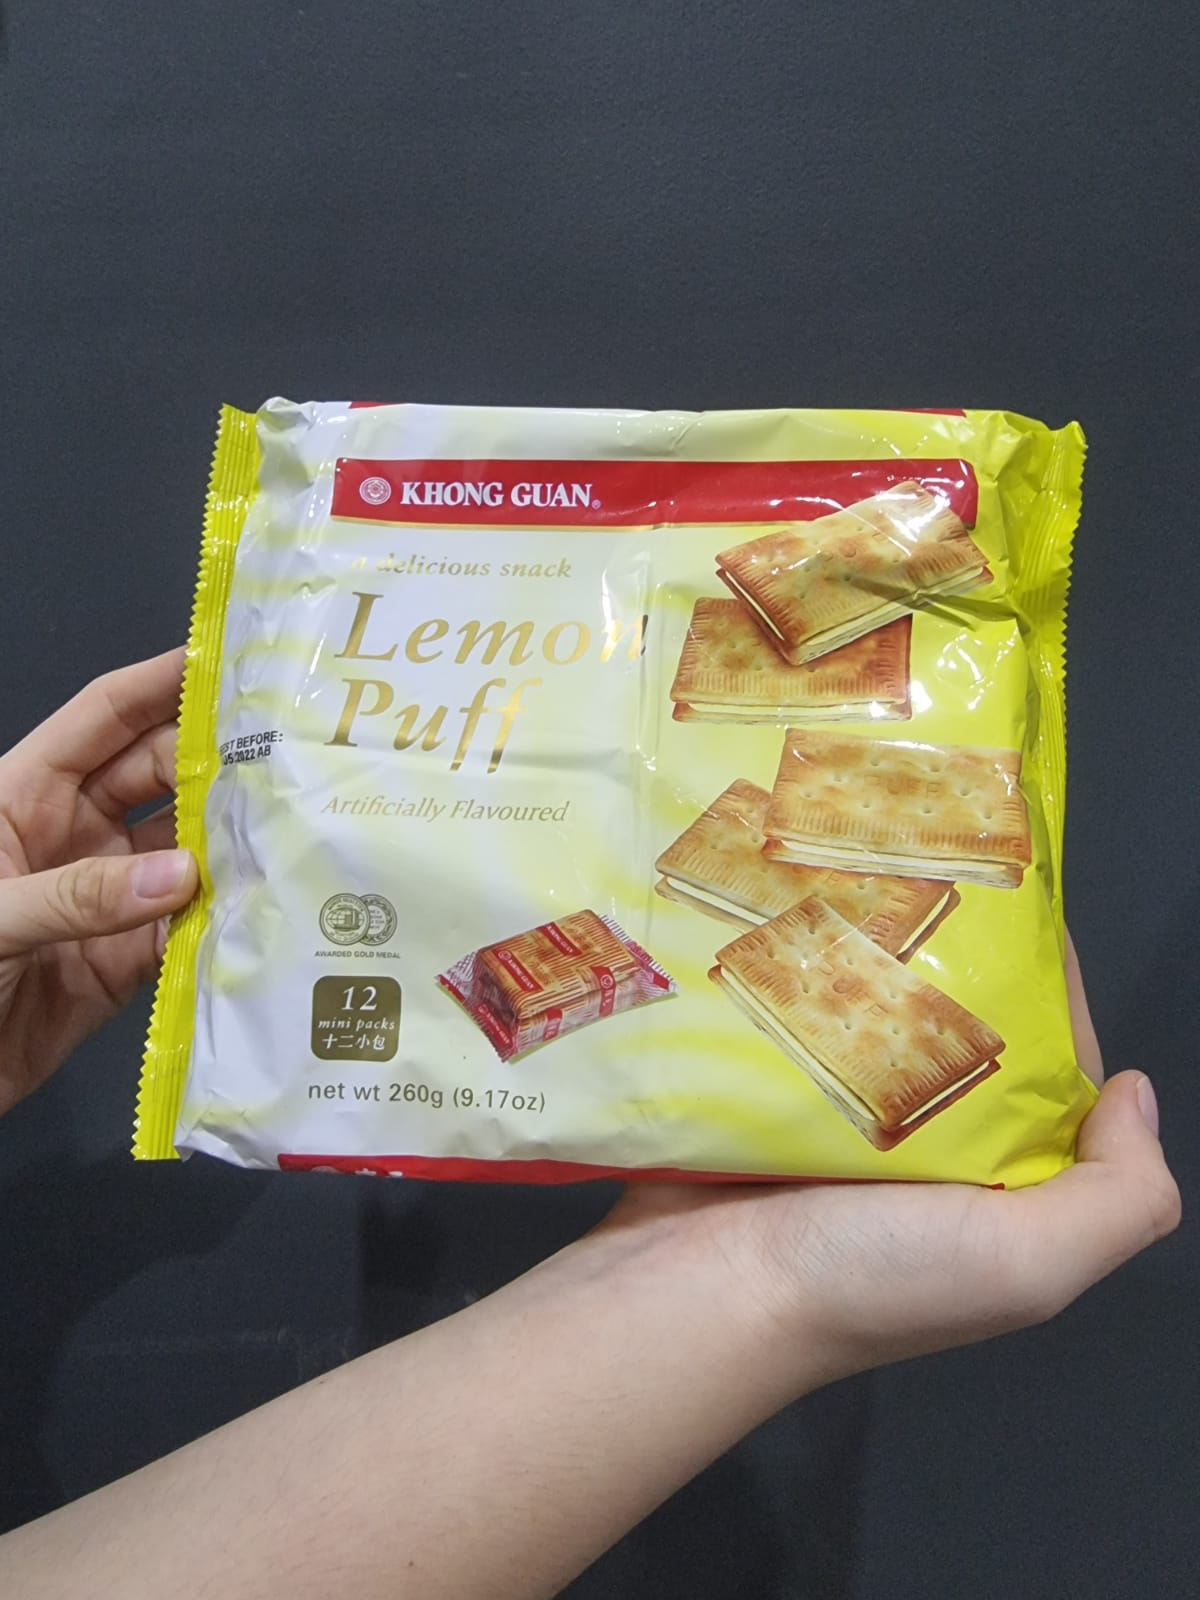Biscuits: (229, 425, 1051, 1148)
